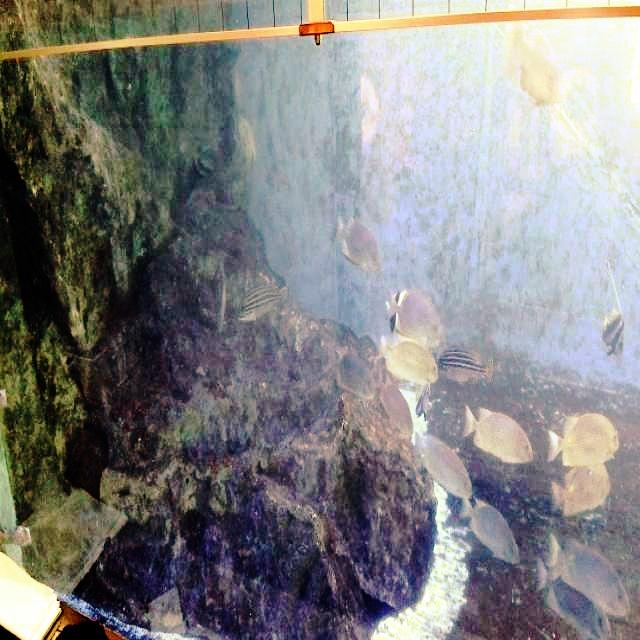Plectorhinchus lessonii: (434, 338, 498, 396), (232, 277, 298, 333)
angelfish: (586, 256, 632, 376), (383, 278, 408, 342)
gold snapper: (536, 526, 636, 620), (446, 481, 526, 579), (528, 554, 614, 640), (402, 412, 474, 510), (461, 391, 540, 477), (540, 396, 626, 471), (328, 200, 397, 288), (546, 450, 618, 530), (372, 319, 444, 394)
